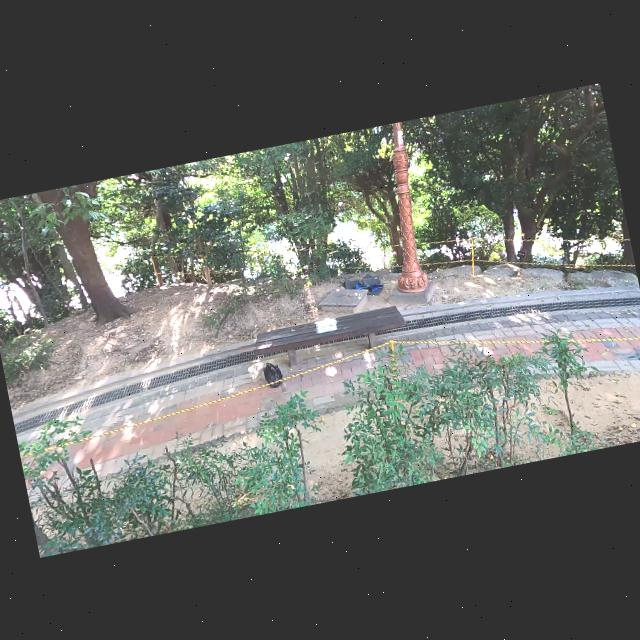trash: (340, 266, 388, 302), (260, 358, 286, 392)
